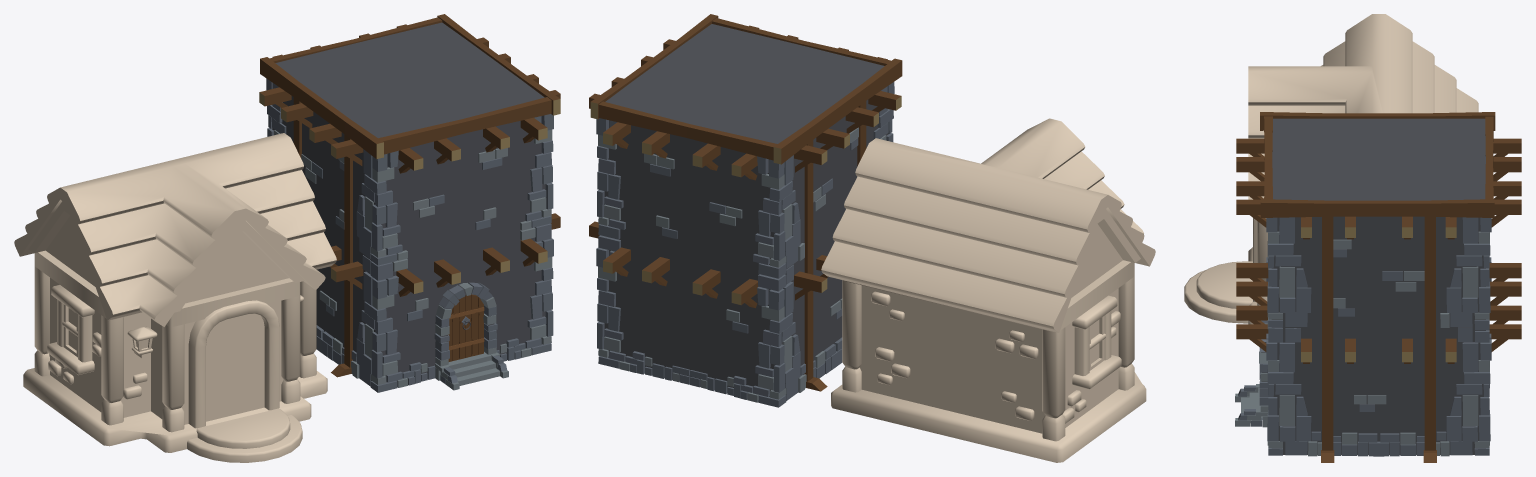
The model's file is london_bld_house_row.glb.
3 renders of one model, left to right at view 1: azimuth 30°, elevation 25°; view 2: azimuth 150°, elevation 25°; view 3: azimuth 270°, elevation 25°, orthographic. The views are drawn at different scales.
Parts seen in each view (by area): view 1: House_3, house; view 2: House_3, house; view 3: House_3, house.
Boxes of the visible parts, x1=… form: House_3: x1=259, y1=14, x2=560, y2=392; house: x1=14, y1=133, x2=336, y2=462; House_3: x1=589, y1=14, x2=902, y2=407; house: x1=821, y1=118, x2=1155, y2=462; House_3: x1=1235, y1=112, x2=1521, y2=462; house: x1=1184, y1=14, x2=1478, y2=324.
Bounding box in the file's own units: 11.93 × 6.27 × 7.5.
